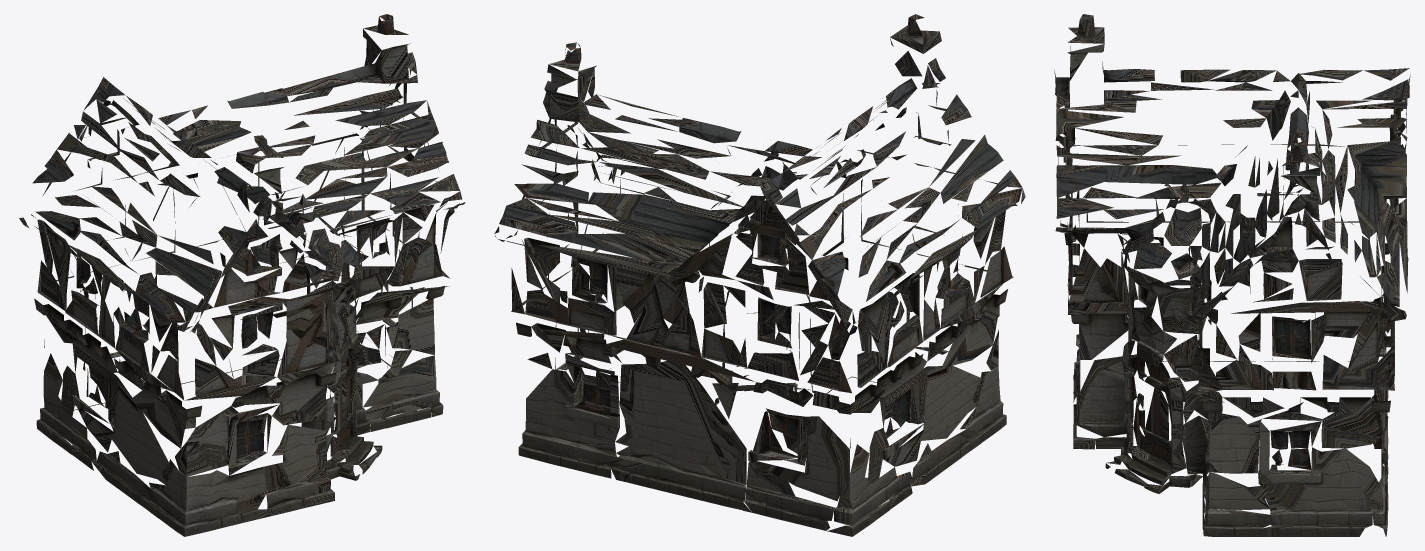
File: bld_house_player_rare_a_LOD1.glb
3 renders of one model, left to right at view 1: azimuth 30°, elevation 25°; view 2: azimuth 150°, elevation 25°; view 3: azimuth 270°, elevation 25°, orthographic. The views are drawn at different scales.
Visible parts, largest first — view 1: geometry_0; view 2: geometry_0; view 3: geometry_0.
Boxes of the visible parts, x1,y1,x2,y2 form: geometry_0: (19, 14, 465, 536); geometry_0: (494, 14, 1025, 536); geometry_0: (1054, 14, 1410, 536).
Bounding box in the file's own units: 6.31 × 6.5 × 5.3.
Materials: 1 (1 with a texture image).
